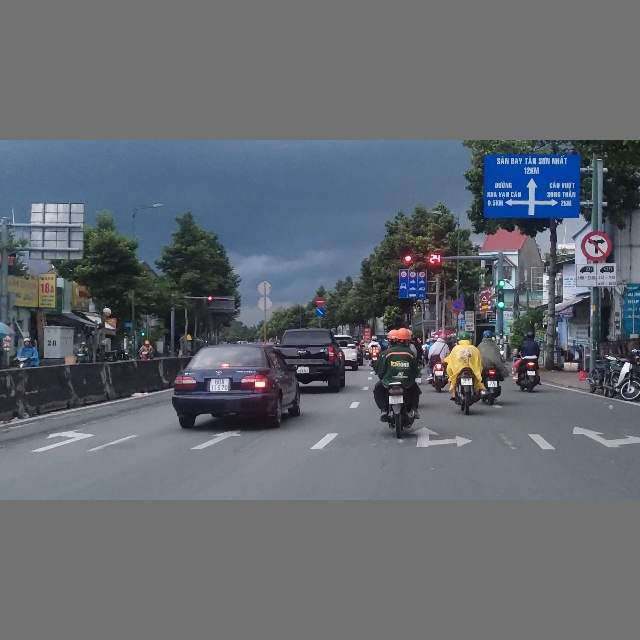P.102: (316, 297, 325, 306)
P.127*60: (409, 271, 416, 278), (400, 271, 407, 277), (419, 271, 425, 277)
P.131a: (452, 299, 464, 310)
P.137: (581, 231, 613, 261)
R.302a: (316, 307, 325, 316)
R.415a: (399, 278, 426, 299)
